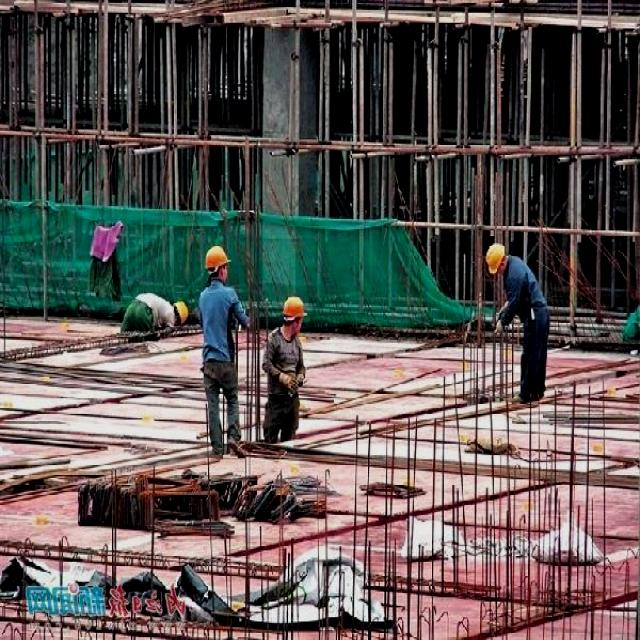hand_glove: (493, 300, 514, 340), (280, 371, 296, 397), (296, 366, 308, 390)
head_helmet: (206, 246, 231, 270), (486, 243, 506, 272), (283, 296, 308, 318), (175, 300, 188, 323)
person: (480, 241, 545, 403), (196, 248, 242, 457), (259, 288, 314, 446), (119, 290, 191, 332)
